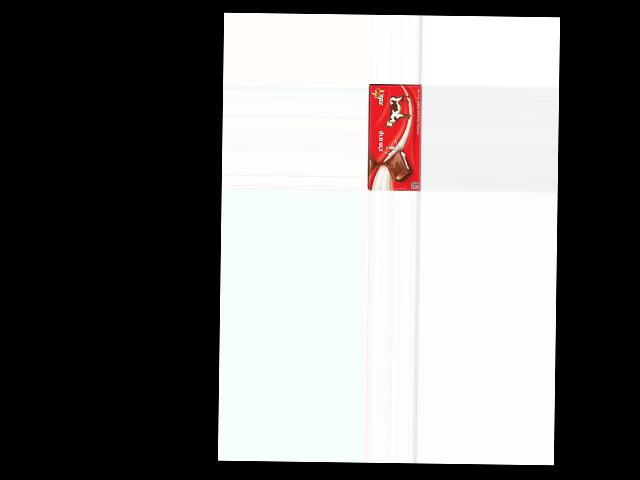chocolate: (367, 81, 422, 191)
